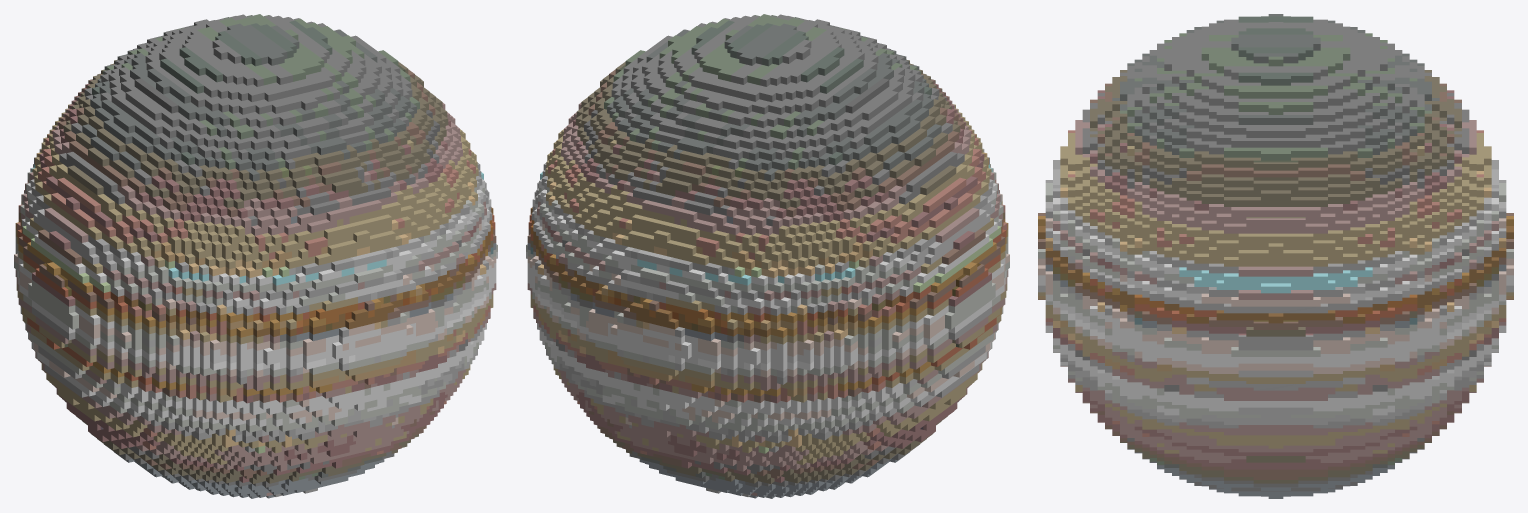
File: jupiter.glb
3 views of the same model, side by side, from view 1: azimuth 30°, elevation 25°; view 2: azimuth 150°, elevation 25°; view 3: azimuth 270°, elevation 25° (orthographic).
Parts seen in each view (by area): view 1: Voxel Jupiter; view 2: Voxel Jupiter; view 3: Voxel Jupiter.
Boxes of the visible parts, x1=… form: Voxel Jupiter: x1=14, y1=14, x2=497, y2=498; Voxel Jupiter: x1=526, y1=14, x2=1009, y2=498; Voxel Jupiter: x1=1038, y1=14, x2=1513, y2=498.
Bounding box in the file's own units: 12.8 × 12.8 × 12.8.
1 material, 1 textured.
